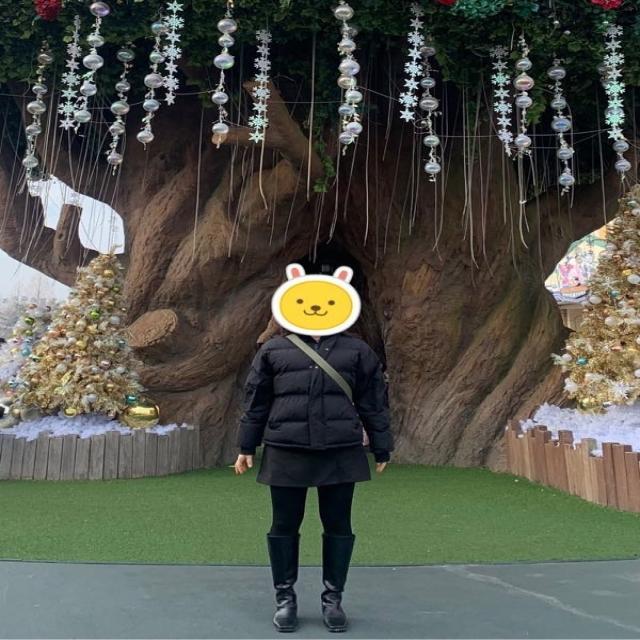padding: (232, 332, 396, 472)
skirt: (255, 432, 372, 487)
